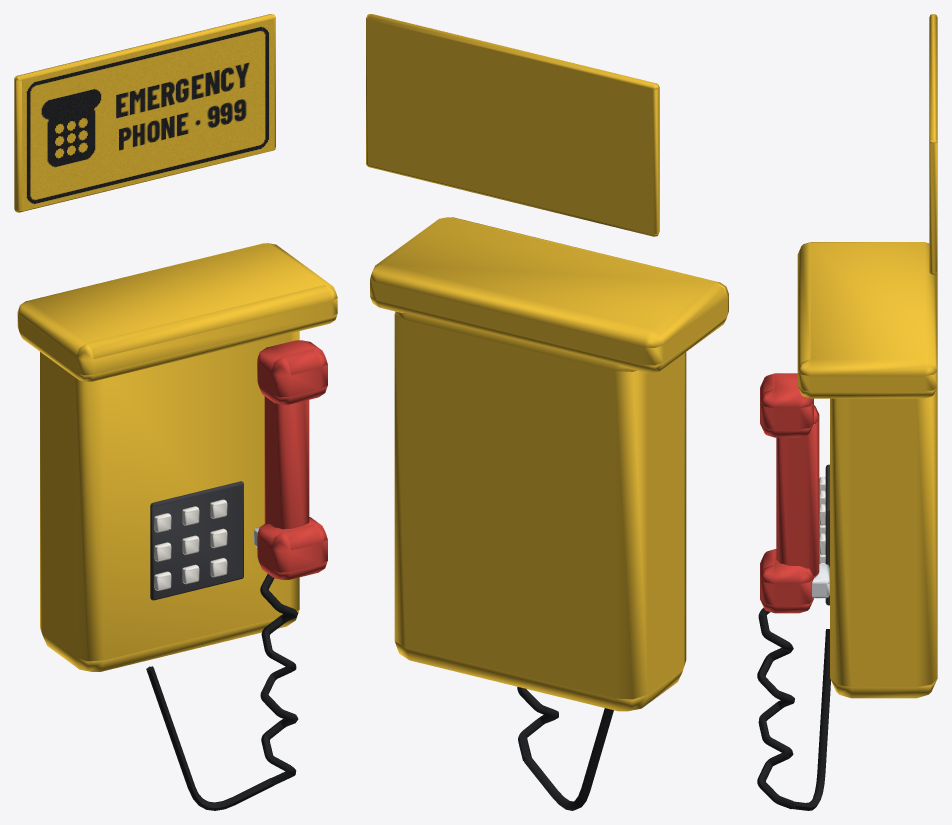
Rendered from emergency_phone.glb.
3 renders of one model, left to right at view 1: azimuth 30°, elevation 25°; view 2: azimuth 150°, elevation 25°; view 3: azimuth 270°, elevation 25°, orthographic. The views are drawn at different scales.
Parts seen in each view (by area): view 1: EmergencyPhoneBody; view 2: EmergencyPhoneBody; view 3: EmergencyPhoneBody.
Boxes of the visible parts, bbox=[...] form: EmergencyPhoneBody: bbox=[14, 14, 337, 810]; EmergencyPhoneBody: bbox=[366, 14, 728, 810]; EmergencyPhoneBody: bbox=[757, 14, 937, 810].
Bounding box in the file's own units: 0.28 × 0.7436 × 0.1676.
Materials: 7 (1 with a texture image).
